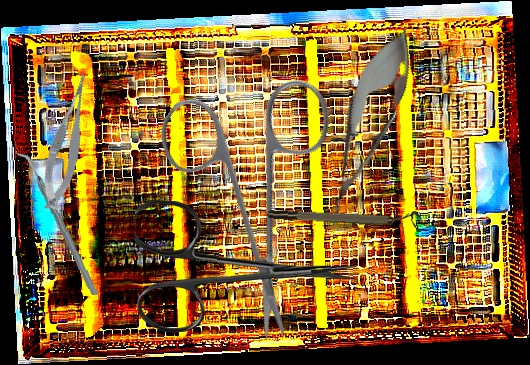Chopper: (15, 147, 99, 299)
Fixation Ring: (266, 201, 424, 232)
Iris Scissors: (94, 25, 415, 347), (132, 200, 359, 335)
Micro Scissor: (305, 18, 428, 240), (29, 68, 108, 215)
